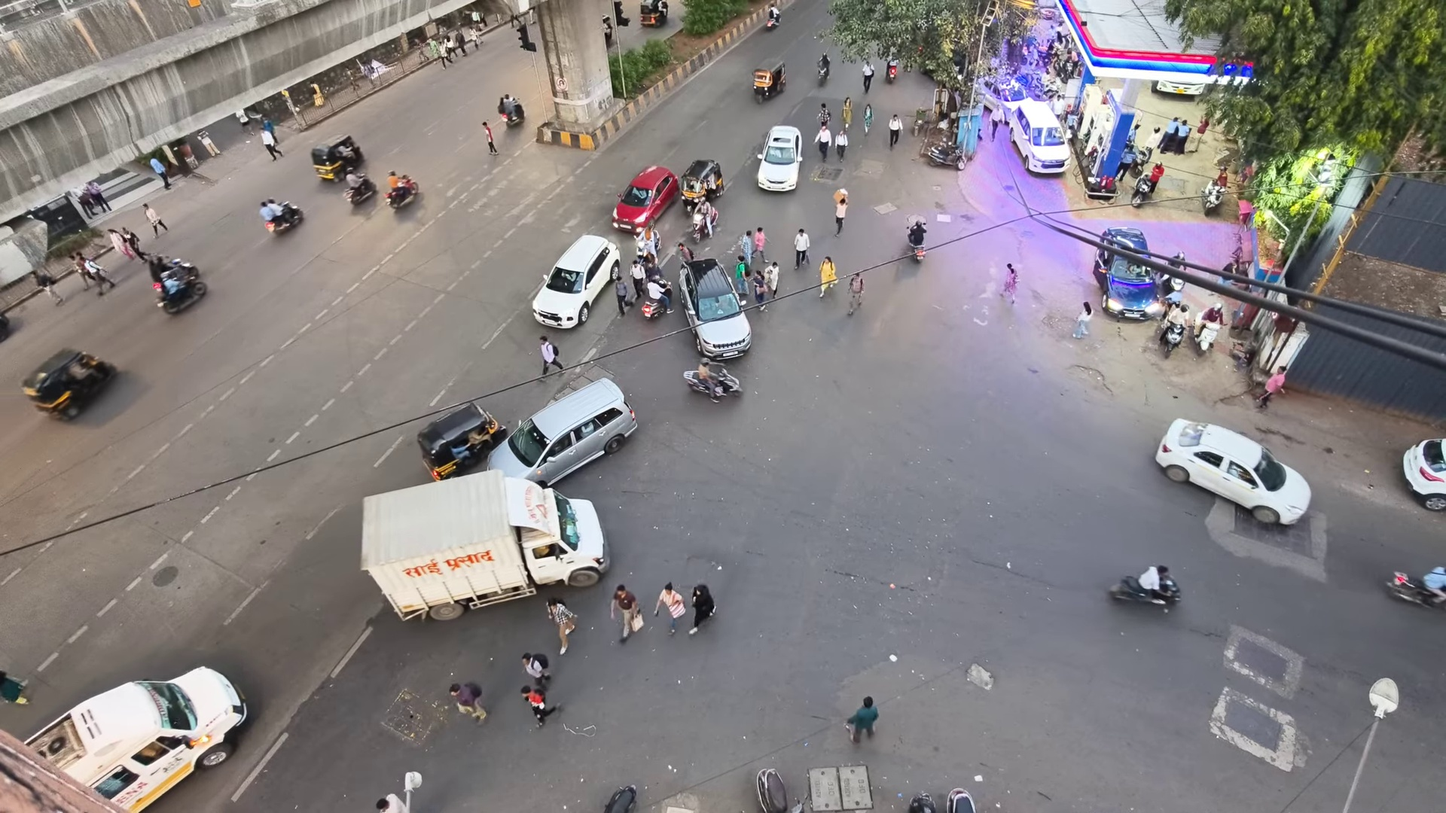walking: (610, 585, 642, 642), (547, 598, 576, 655), (654, 582, 685, 635), (521, 687, 560, 727), (76, 254, 115, 294), (845, 696, 878, 742), (450, 683, 487, 722), (689, 584, 715, 634), (1256, 367, 1286, 409), (32, 269, 64, 304), (647, 275, 673, 312), (539, 335, 563, 375), (68, 252, 93, 289), (0, 671, 28, 704), (523, 653, 550, 687), (143, 203, 168, 236), (1072, 301, 1093, 340), (84, 180, 111, 210), (122, 227, 146, 260), (108, 229, 135, 258), (847, 272, 865, 315), (819, 256, 836, 297), (1001, 263, 1017, 304), (794, 229, 810, 269), (261, 130, 282, 160), (762, 260, 779, 297), (376, 793, 409, 812), (734, 254, 747, 302), (630, 259, 646, 298), (150, 157, 169, 189), (614, 275, 629, 315), (482, 121, 499, 155), (816, 124, 831, 161), (752, 272, 767, 309), (739, 230, 754, 266), (990, 104, 1004, 141), (835, 196, 847, 236), (834, 125, 847, 161), (888, 114, 901, 149), (862, 59, 874, 93), (840, 96, 852, 129), (235, 109, 250, 135), (754, 227, 765, 260), (677, 242, 694, 262), (863, 104, 872, 138), (818, 103, 831, 126)
